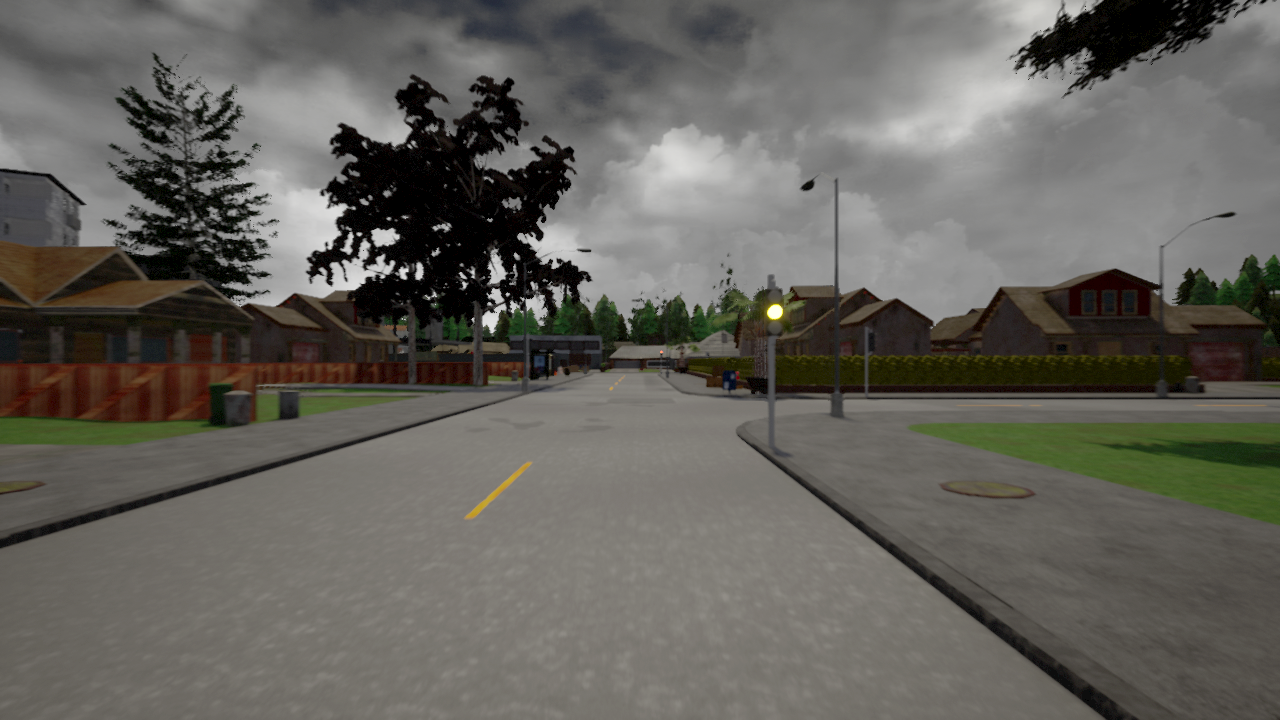yellow: (763, 286, 785, 337)
